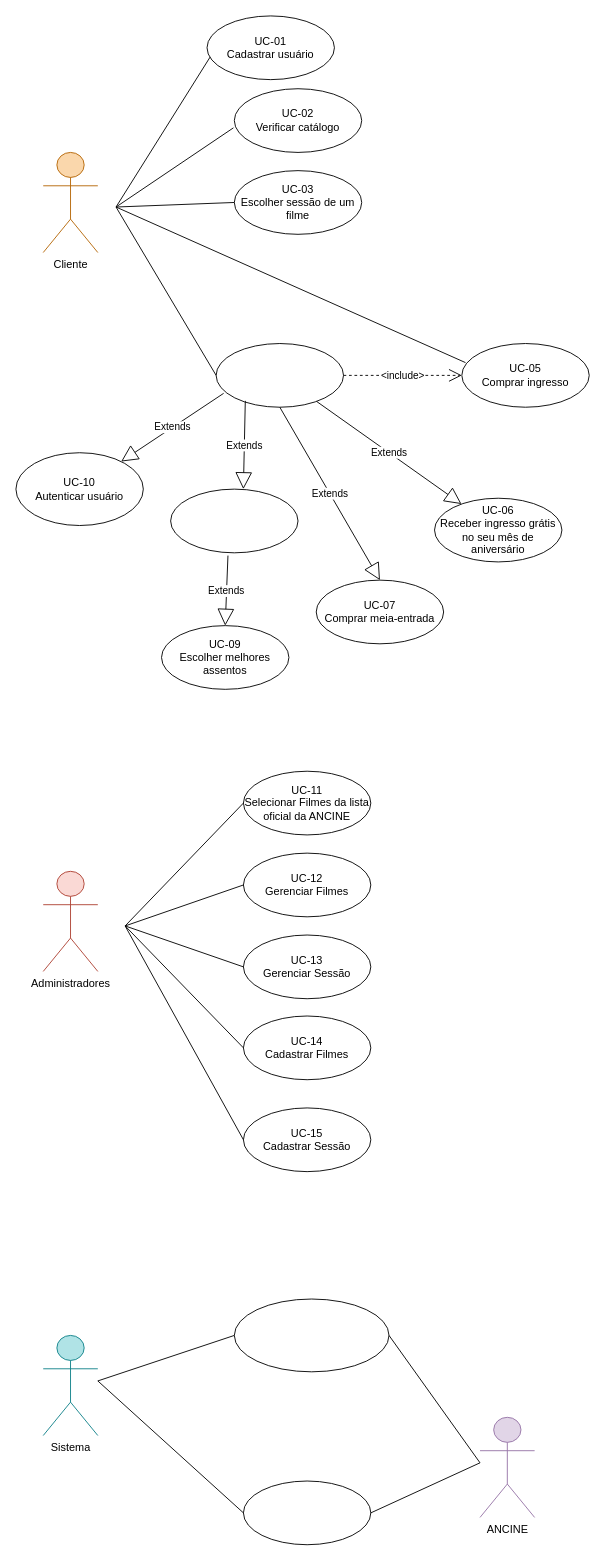
This 605x1561 diagram has some shape labels left out. Each missing label, with the box of its shape:
UC-04 Reservar assento: (215, 343, 344, 407)
UC-08 Reservar com dois dias de antecêdencia: (170, 488, 298, 553)
UC-16 Enviar relatório de venda de ingressos e renda por sessão para ANCINE: (233, 1298, 389, 1372)
UC-17 Disponibilizar lista de filmes disponíveis: (243, 1480, 371, 1545)
